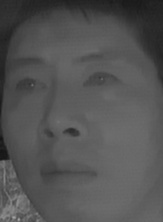eye: (83, 67, 122, 93), (14, 71, 48, 98)
mouth: (36, 153, 100, 193)
